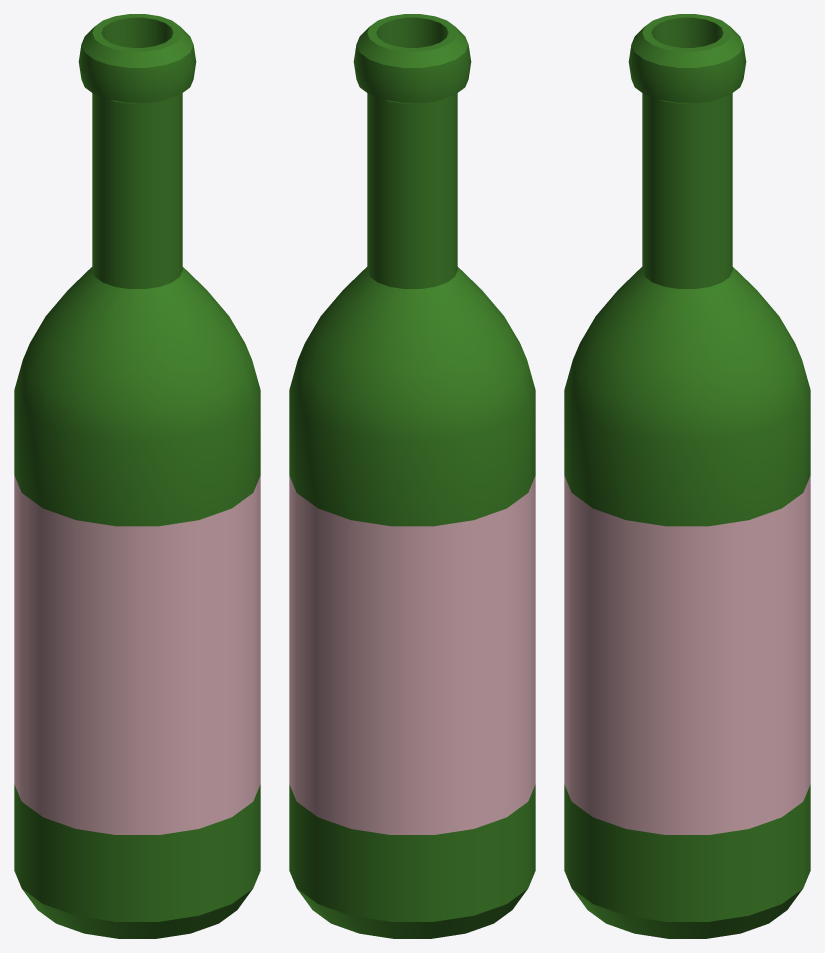
Rendered from bottle.fbx.
3 renders of one model, left to right at view 1: azimuth 30°, elevation 25°; view 2: azimuth 150°, elevation 25°; view 3: azimuth 270°, elevation 25°, orthographic.
Parts seen in each view (by area): view 1: Cylinder; view 2: Cylinder; view 3: Cylinder.
Part boxes in pixels (x1=…): Cylinder: x1=14, y1=14, x2=260, y2=938; Cylinder: x1=289, y1=14, x2=535, y2=938; Cylinder: x1=564, y1=14, x2=810, y2=938.
Size of the model in its own units: 8.09 by 31.71 by 8.22.
